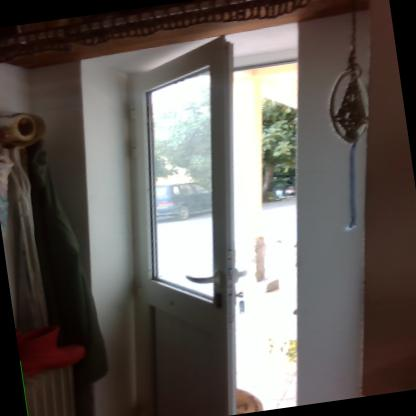semi: (49, 18, 389, 415)
